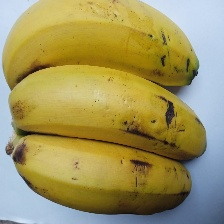banana: (11, 34, 195, 194)
